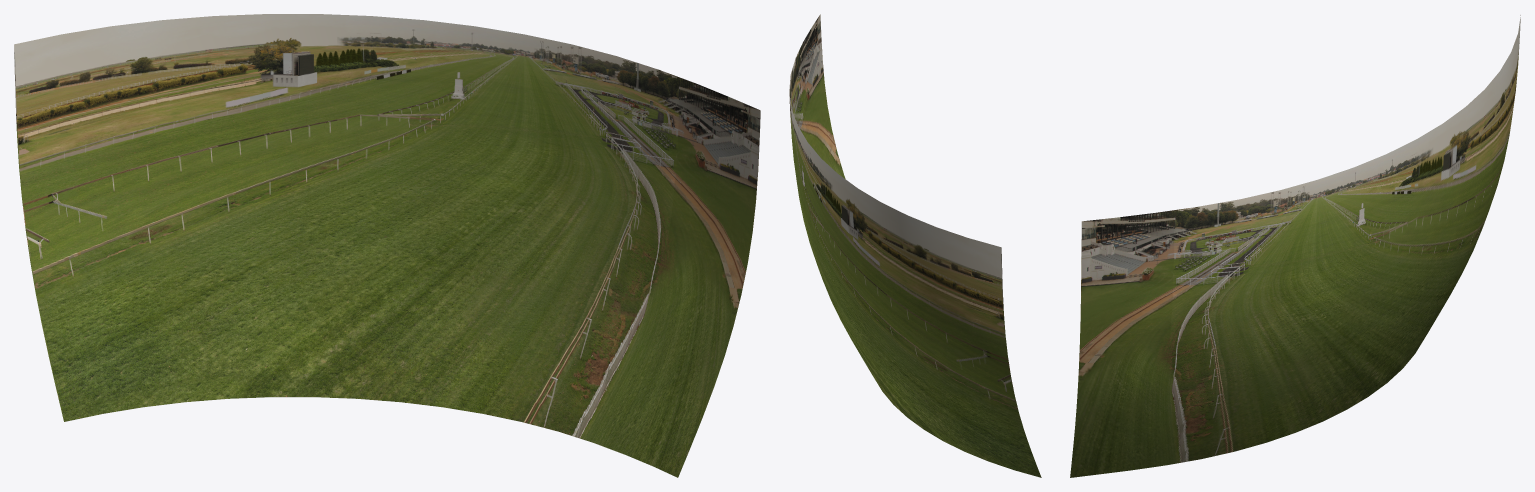
File: After_FinishLine_Panoramic.fbx
3 renders of one model, left to right at view 1: azimuth 30°, elevation 25°; view 2: azimuth 150°, elevation 25°; view 3: azimuth 270°, elevation 25°, orthographic. The views are drawn at different scales.
Visible parts, largest first — view 1: polymsh; view 2: polymsh; view 3: polymsh.
Part boxes in pixels (x1,y1,x2,y2): polymsh: (14,14,760,477); polymsh: (789,14,1041,477); polymsh: (1070,15,1520,477).
Size of the model in its own units: 218 by 144 by 199.
